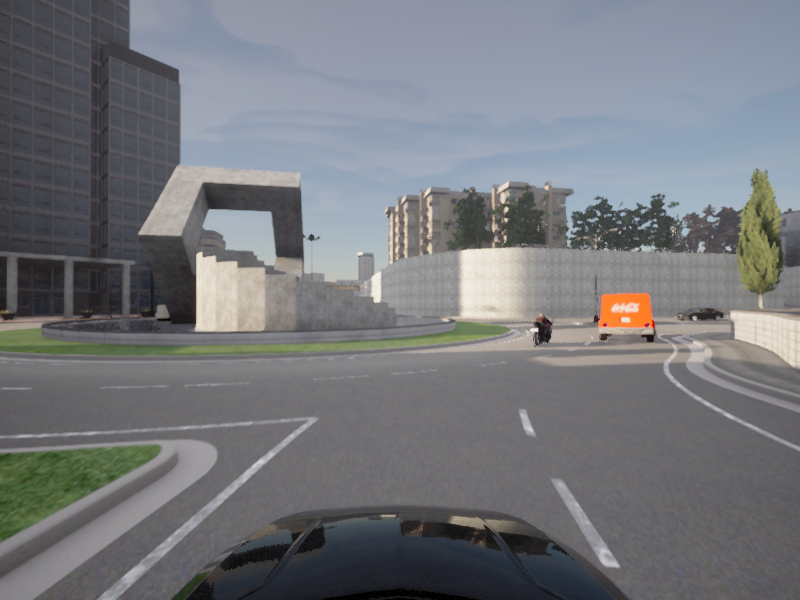vehicle: (0, 0, 799, 558), (595, 292, 657, 343), (524, 312, 558, 347)
